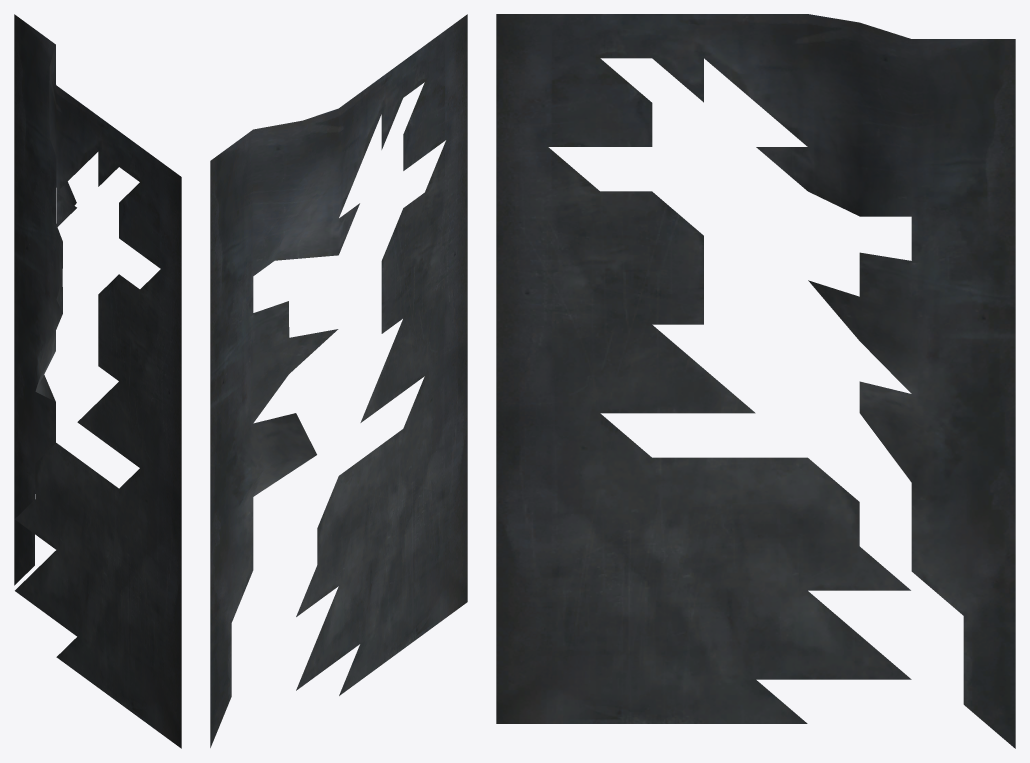
The model's file is hd_dec_UNI_015_Oilcloth_Damaged03_anim.glb.
3 renders of one model, left to right at view 1: azimuth 30°, elevation 25°; view 2: azimuth 150°, elevation 25°; view 3: azimuth 270°, elevation 25°, orthographic. The views are drawn at different scales.
Parts seen in each view (by area): view 1: set_1_group_0, set_0_group_0; view 2: set_1_group_0, set_0_group_0; view 3: set_1_group_0, set_0_group_0.
Boxes of the visible parts, x1,y1,x2,y2 form: set_1_group_0: (14,14,181,585); set_0_group_0: (14,443,181,748); set_1_group_0: (210,14,467,747); set_0_group_0: (296,382,467,695); set_1_group_0: (496,14,1015,748); set_0_group_0: (496,457,911,723).
Size of the model in its own units: 0.487 by 6.43 by 4.26.
Materials: 2 (2 with a texture image).
